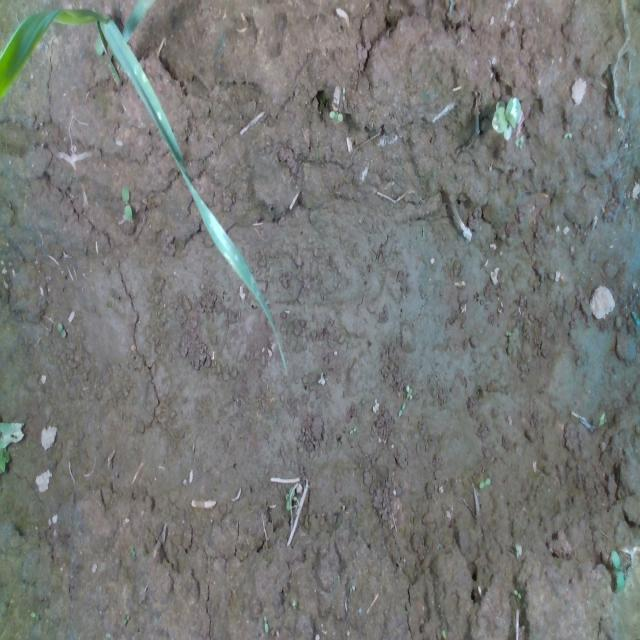weed: (405, 380, 427, 401), (54, 320, 74, 340), (324, 105, 344, 122), (562, 126, 572, 140)
